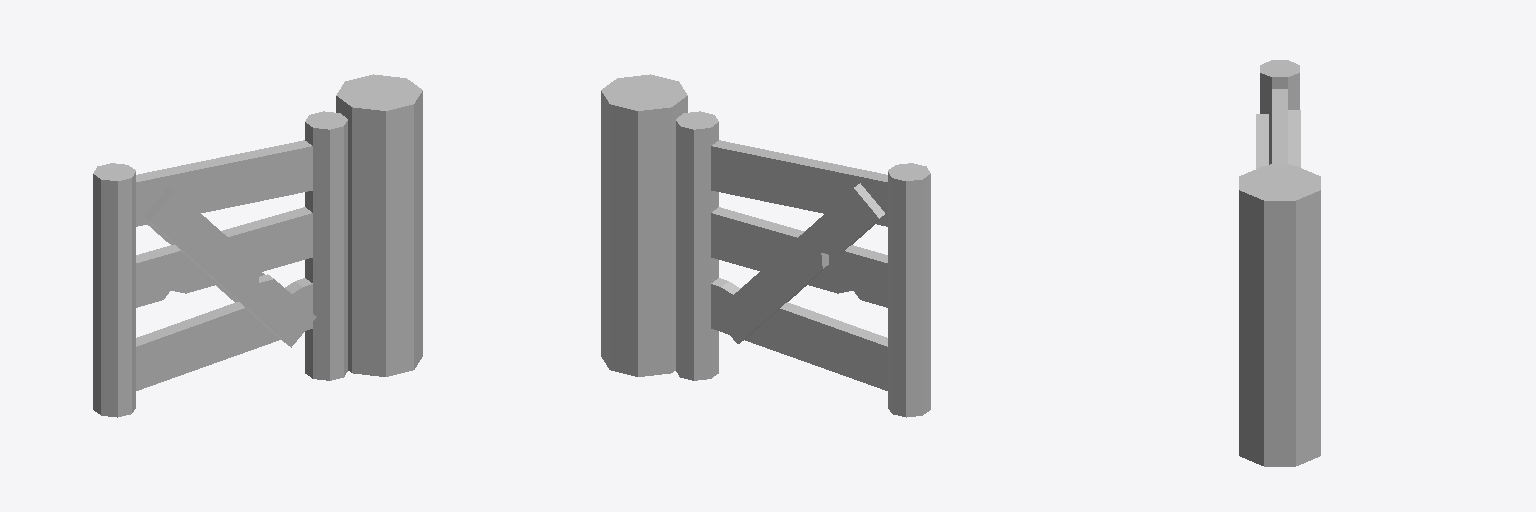
The model's file is Prop_Fence_Gate_2.obj.
3 renders of one model, left to right at view 1: azimuth 30°, elevation 25°; view 2: azimuth 150°, elevation 25°; view 3: azimuth 270°, elevation 25°, orthographic.
Parts seen in each view (by area): view 1: object2, object8, object5, object1, object3, object6, object7; view 2: object2, object8, object5, object4, object1, object6, object7; view 3: object2, object8, object1, object4, object3.
Boxes of the visible parts, x1=… form: object2: x1=336, y1=74, x2=422, y2=376; object8: x1=93, y1=163, x2=135, y2=417; object5: x1=305, y1=111, x2=347, y2=380; object1: x1=136, y1=140, x2=312, y2=226; object3: x1=144, y1=186, x2=316, y2=347; object6: x1=136, y1=278, x2=312, y2=390; object7: x1=136, y1=207, x2=312, y2=307; object2: x1=601, y1=74, x2=687, y2=376; object8: x1=888, y1=163, x2=930, y2=417; object5: x1=676, y1=111, x2=718, y2=380; object4: x1=713, y1=183, x2=884, y2=343; object1: x1=711, y1=140, x2=887, y2=226; object6: x1=711, y1=278, x2=887, y2=390; object7: x1=711, y1=207, x2=887, y2=307; object2: x1=1239, y1=166, x2=1320, y2=466; object8: x1=1260, y1=60, x2=1299, y2=164; object1: x1=1272, y1=89, x2=1287, y2=163; object4: x1=1288, y1=110, x2=1300, y2=167; object3: x1=1256, y1=114, x2=1268, y2=168.
Bounding box in the file's own units: 1.12 × 0.9 × 0.25.